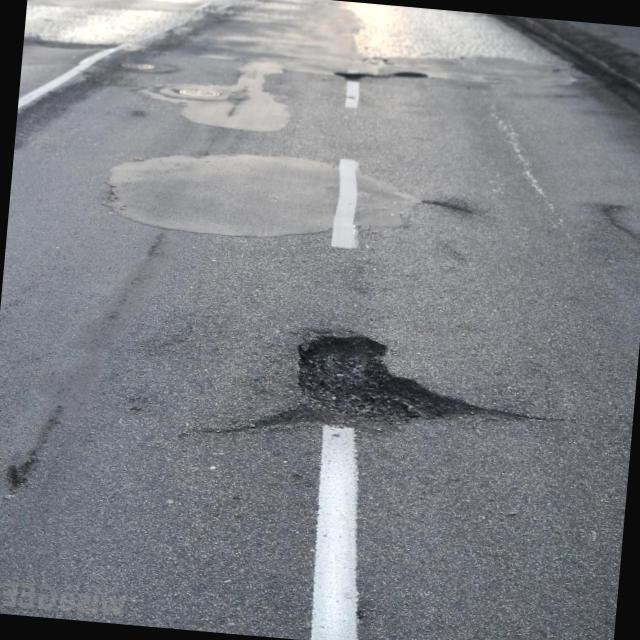bad-road: (286, 326, 509, 444), (333, 62, 424, 90)
